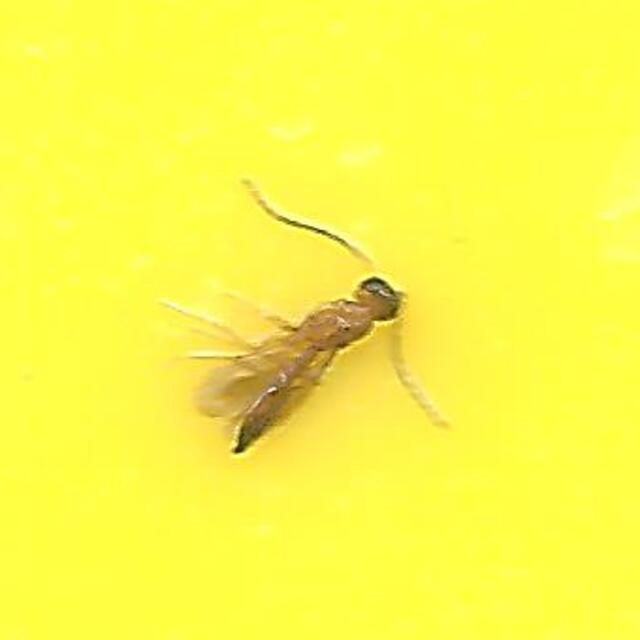Hymenoptera: (188, 178, 452, 462)
